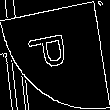P_E: (30, 32, 80, 78)
